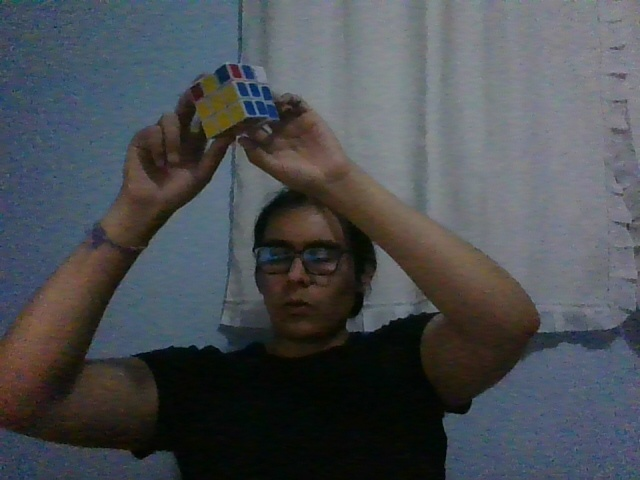rubik: (189, 62, 280, 140)
